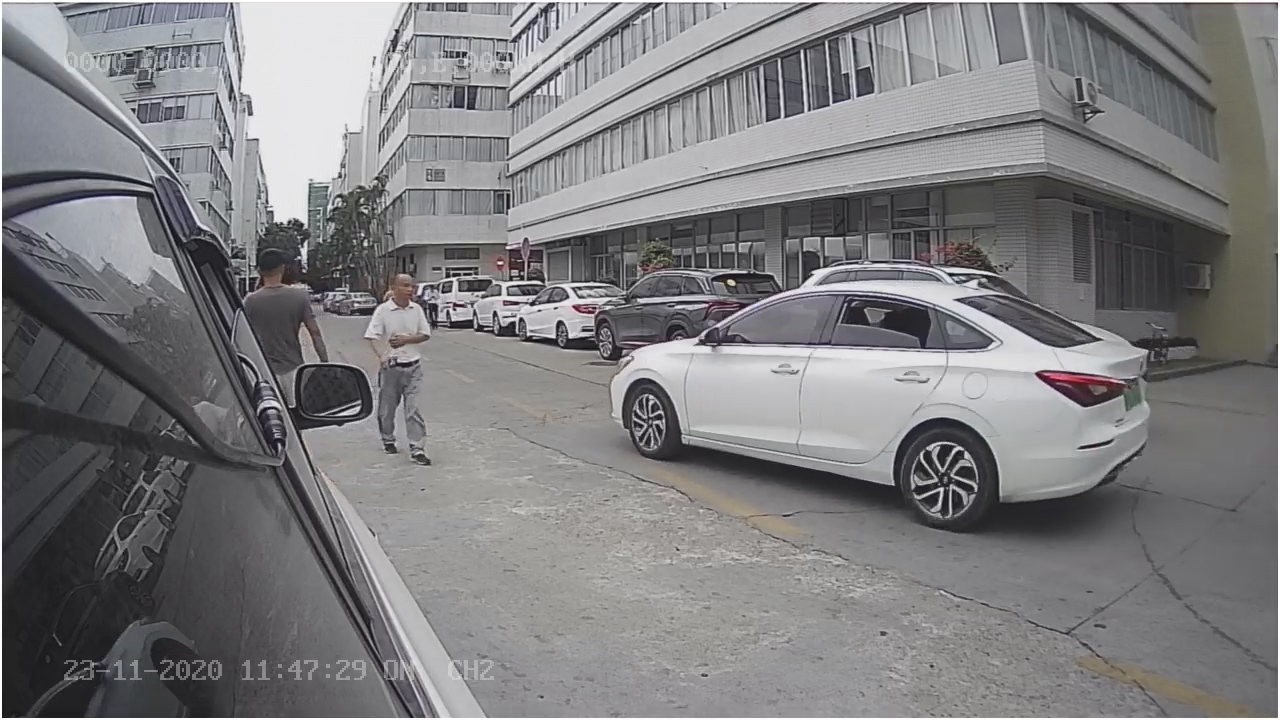person: (368, 259, 440, 475)
